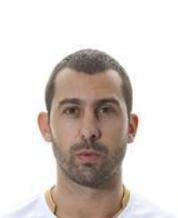face: (59, 96, 118, 163)
